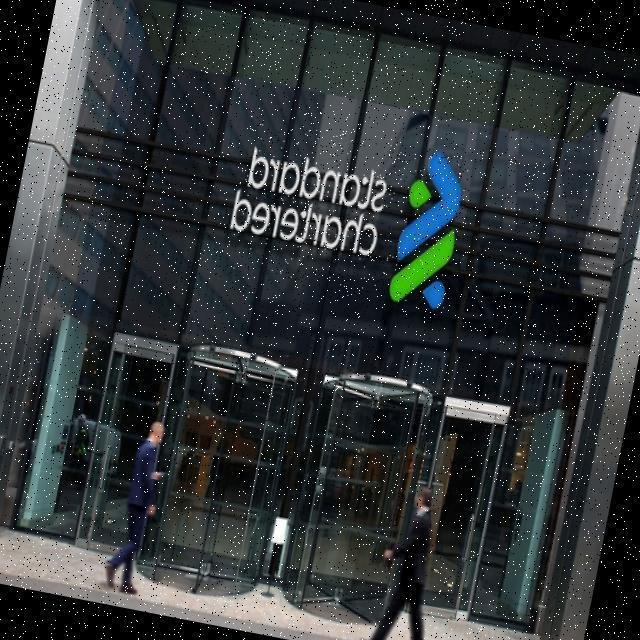Standard Chartered: (222, 117, 474, 315)
